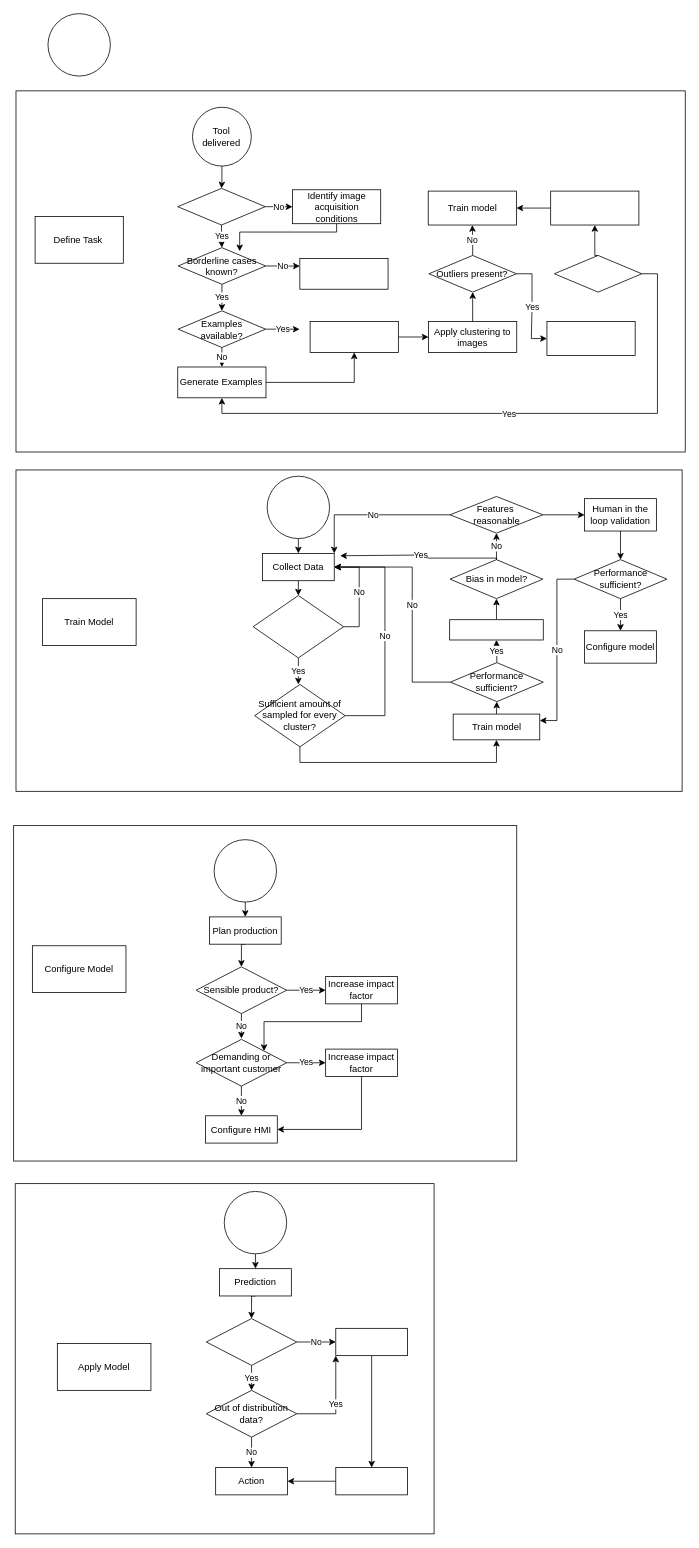
Image size: 699x1548. Some labels were removed from this diagram. Here are the shapes that lost their labels. From the top down, the centre of each, then its label:
pixel 78 44: Image recognition task
pixel 221 206: Image acquistion conditions known?
pixel 594 207: Document outliers as out of distribution
pixel 343 273: Identify boderline case
pixel 598 273: Outliers reasonable for task?
pixel 353 336: Examine statistics of images
pixel 590 338: Explain outliers
pixel 298 507: Task defined
pixel 298 626: Statistics of Data comparable to examples?
pixel 496 629: Evaluate model
pixel 245 870: Model trained
pixel 255 1222: New Image
pixel 251 1341: Confidence Score sufficient?
pixel 371 1342: Inform Operator
pixel 371 1481: Decision
